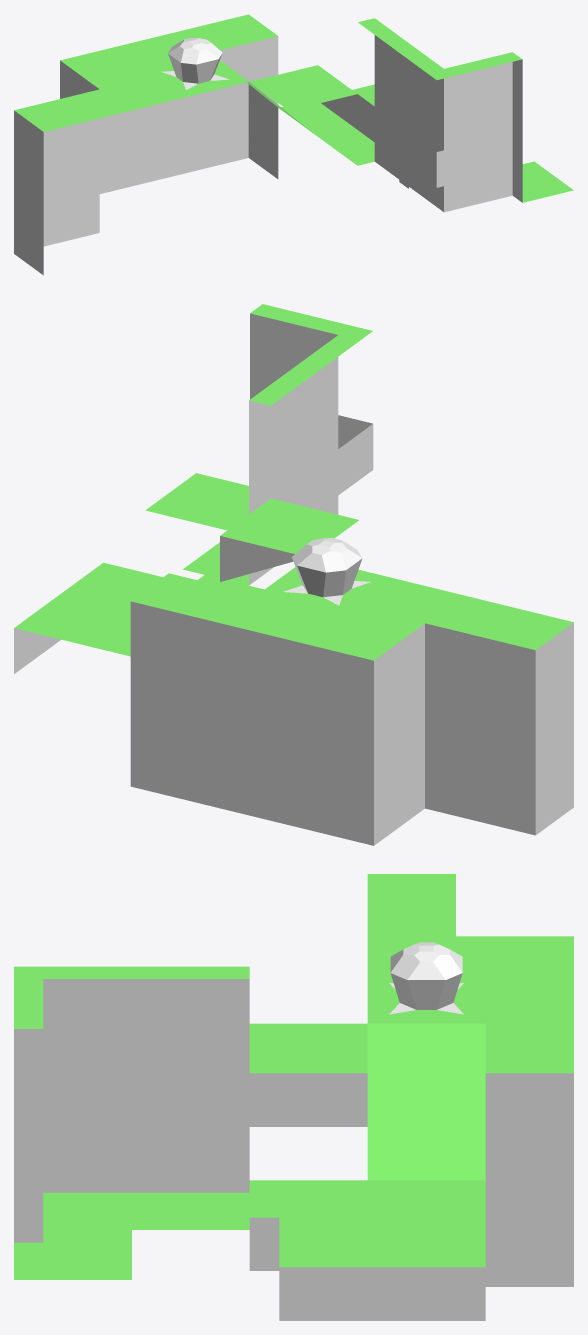
The model's file is tiles1.fbx.
3 renders of one model, top to bottom at view 1: azimuth 30°, elevation 25°; view 2: azimuth 150°, elevation 25°; view 3: azimuth 270°, elevation 25°, orthographic. The views are drawn at different scales.
Parts seen in each view (by area): view 1: Cube.014, land_innercornerwallup, Cube.013, Cube.018, Cube.015, Cube.012, up_land_innercorner, resource, Cube.006, Cube.009, land_innercornerwall, land_wallup (+11 smaller); view 2: Cube.013, Cube.008, Cube.018, Cube.012, Cube.007, Cube.016, Cube.015, Cube.014, Cube.009, land_innercornerwallup, Cube.006, resource (+12 smaller); view 3: ramp, land_wallup, Cube.012, land_wall, Cube.006, land_innercornerwallup, land_edge, Cube.014, land_innercornerwall, land_outercorner, resource, land_innercorner (+10 smaller).
Part boxes in pixels (bbox=[...]): Cube.014: bbox=[180, 86, 278, 178]; land_innercornerwallup: bbox=[397, 47, 504, 140]; Cube.013: bbox=[14, 93, 111, 203]; Cube.018: bbox=[14, 165, 82, 275]; Cube.015: bbox=[111, 103, 179, 191]; Cube.012: bbox=[180, 14, 278, 105]; up_land_innercorner: bbox=[397, 123, 505, 187]; resource: bbox=[141, 37, 248, 98]; Cube.006: bbox=[250, 65, 357, 129]; Cube.009: bbox=[82, 69, 180, 164]; land_innercornerwall: bbox=[414, 119, 495, 212]; land_wallup: bbox=[358, 18, 414, 118]; Cube.013: bbox=[447, 600, 573, 742]; Cube.008: bbox=[307, 616, 412, 753]; Cube.018: bbox=[447, 715, 573, 835]; Cube.012: bbox=[130, 573, 256, 715]; Cube.007: bbox=[219, 595, 345, 736]; Cube.016: bbox=[307, 725, 412, 845]; Cube.015: bbox=[219, 715, 307, 829]; Cube.014: bbox=[130, 694, 218, 807]; Cube.009: bbox=[346, 579, 484, 724]; land_innercornerwallup: bbox=[272, 309, 372, 455]; Cube.006: bbox=[220, 498, 358, 581]; resource: bbox=[257, 538, 396, 616]; ramp: bbox=[367, 1023, 485, 1180]; land_wallup: bbox=[132, 966, 249, 1085]; Cube.012: bbox=[485, 1023, 573, 1180]; land_wall: bbox=[132, 1086, 249, 1192]; Cube.006: bbox=[249, 1023, 367, 1126]; land_innercornerwallup: bbox=[14, 966, 131, 1085]; land_edge: bbox=[367, 1230, 485, 1320]; Cube.014: bbox=[485, 1180, 573, 1286]; land_innercornerwall: bbox=[43, 1086, 131, 1192]; land_outercorner: bbox=[279, 1230, 367, 1320]; resource: bbox=[367, 942, 485, 1023]; land_innercorner: bbox=[249, 1180, 367, 1270].
Bounding box in the file's own units: 1200 × 600 × 950.
